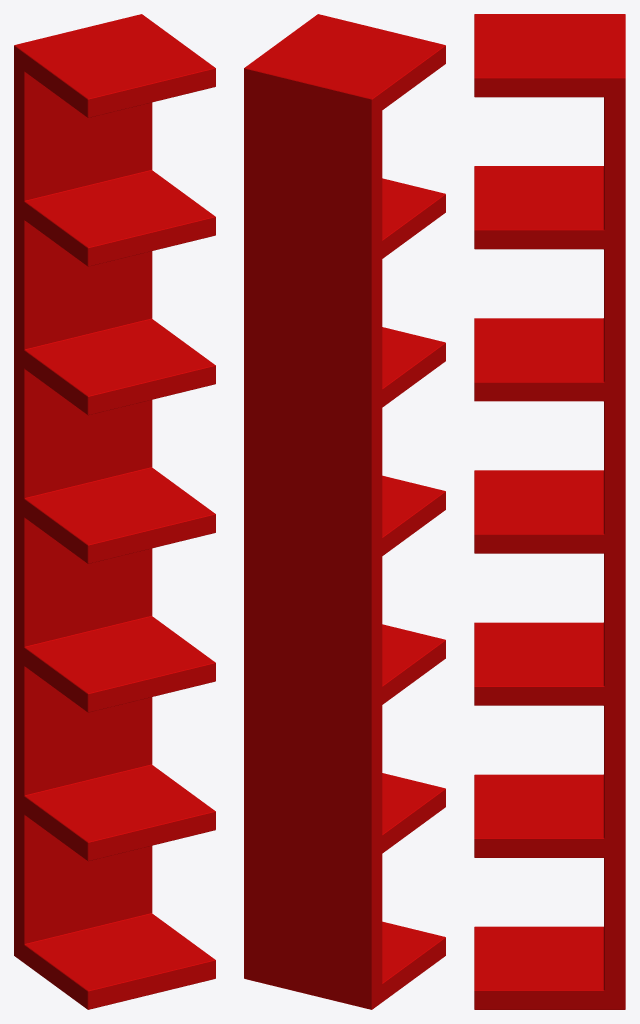
File: IKEA-LACK_wall_shelf_unit_red-3D.DAE
3 views of the same model, side by side, from view 1: azimuth 30°, elevation 25°; view 2: azimuth 150°, elevation 25°; view 3: azimuth 270°, elevation 25° (orthographic). The views are drawn at different scales.
Parts seen in each view (by area): view 1: Line001; view 2: Line001; view 3: Line001.
Part boxes in pixels (x1,y1,x2,y2): Line001: (14, 14, 215, 1009); Line001: (244, 14, 445, 1009); Line001: (474, 14, 625, 1009).
Size of the model in its own units: 280 by 1900 by 280.
